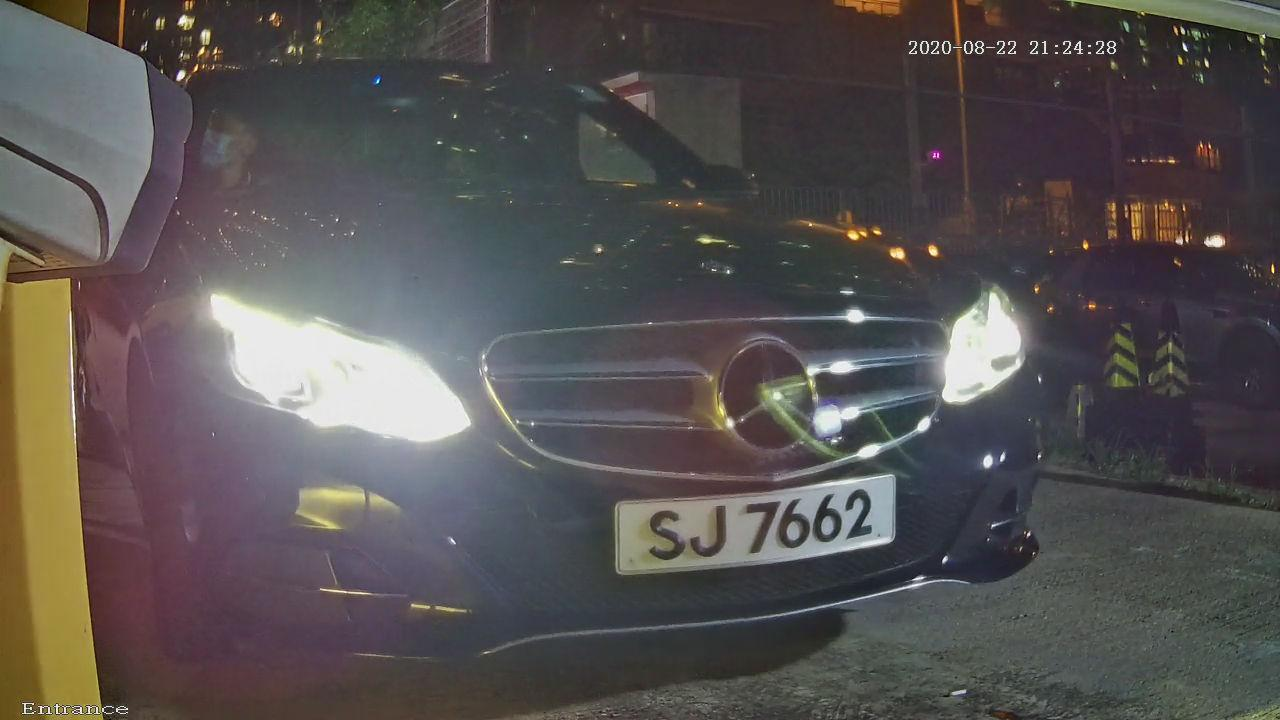Car: (29, 4, 1132, 720)
License Plate: (571, 445, 934, 617)
